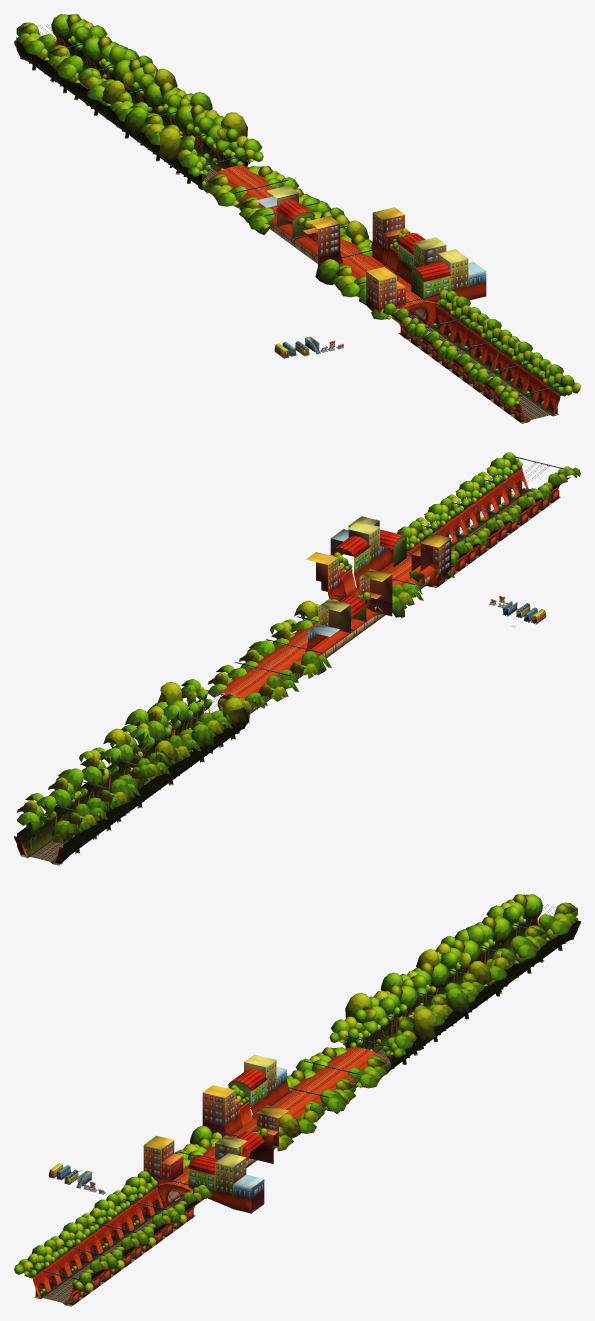
The model's file is subway_surfers_enviroment.glb.
The picture shows the model from 3 angles, top to bottom: view 1: azimuth 30°, elevation 25°; view 2: azimuth 150°, elevation 25°; view 3: azimuth 330°, elevation 25°; orthographic projection.
Parts seen in each view (by area): view 1: Object_7, Object_6, Object_5, Object_4, Object_8, Object_9; view 2: Object_6, Object_7, Object_5, Object_4, Object_9; view 3: Object_7, Object_6, Object_5, Object_4, Object_8, Object_9.
Boxes of the visible parts, bbox=[...] form: Object_7: bbox=[208, 164, 486, 327]; Object_6: bbox=[14, 14, 263, 193]; Object_5: bbox=[414, 312, 580, 423]; Object_4: bbox=[320, 289, 543, 401]; Object_8: bbox=[297, 216, 448, 306]; Object_9: bbox=[274, 336, 320, 358]; Object_6: bbox=[14, 679, 265, 865]; Object_7: bbox=[207, 516, 454, 714]; Object_5: bbox=[415, 452, 580, 565]; Object_4: bbox=[397, 475, 549, 607]; Object_9: bbox=[502, 601, 546, 624]; Object_7: bbox=[143, 1045, 387, 1213]; Object_6: bbox=[329, 894, 580, 1074]; Object_5: bbox=[14, 1194, 180, 1306]; Object_4: bbox=[50, 1171, 211, 1283]; Object_8: bbox=[145, 1084, 275, 1195]; Object_9: bbox=[48, 1163, 92, 1188].
Size of the model in its own units: 679 by 209 by 2932.
4 materials, 2 textured.
